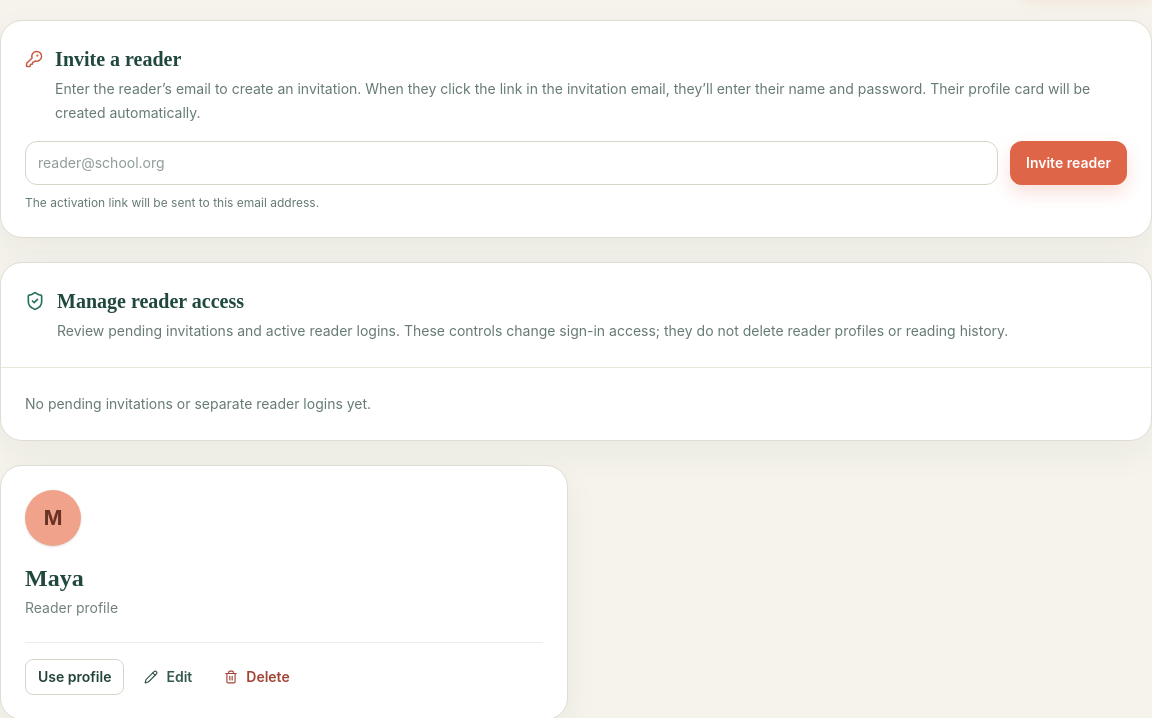
Test case: ReadersPage › requires a second explicit confirmation when the reader has history
(page scrolled)
Expected: the heading "Maya" is shown, [25,565,84,591]
Step 1. Click the button "Delete" → (257,677), box [212,659,302,695]
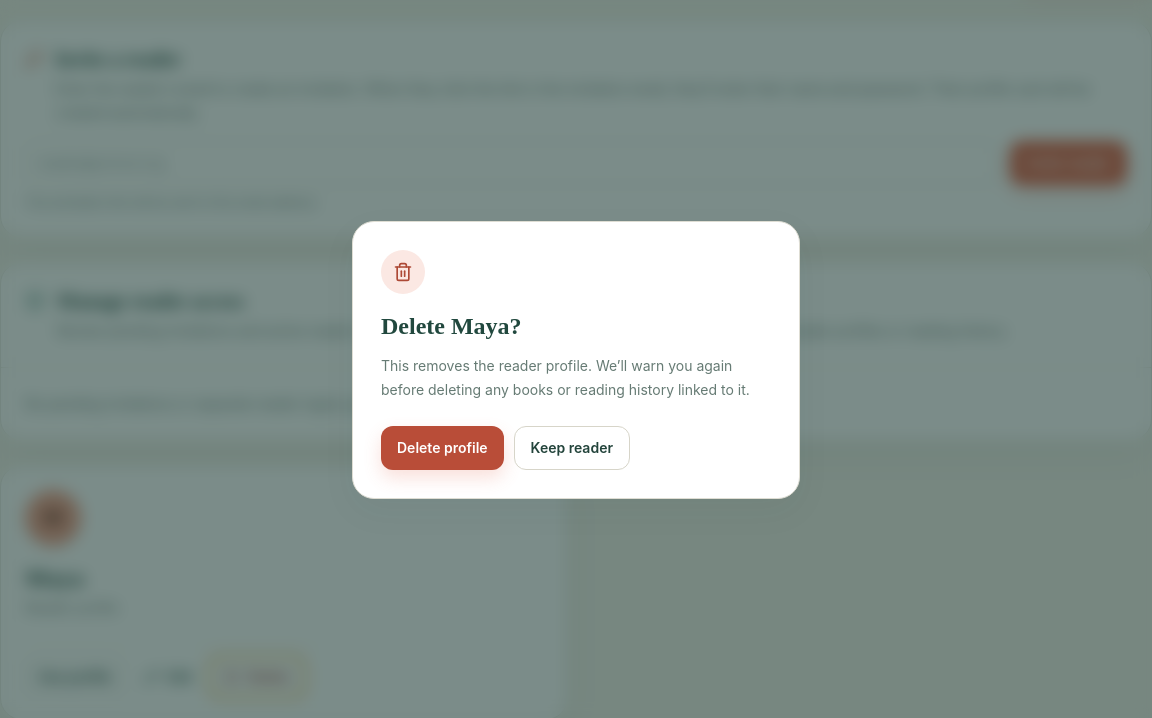
Step 2. Click the button "Delete profile" → (442,448), box [381,426,504,470]
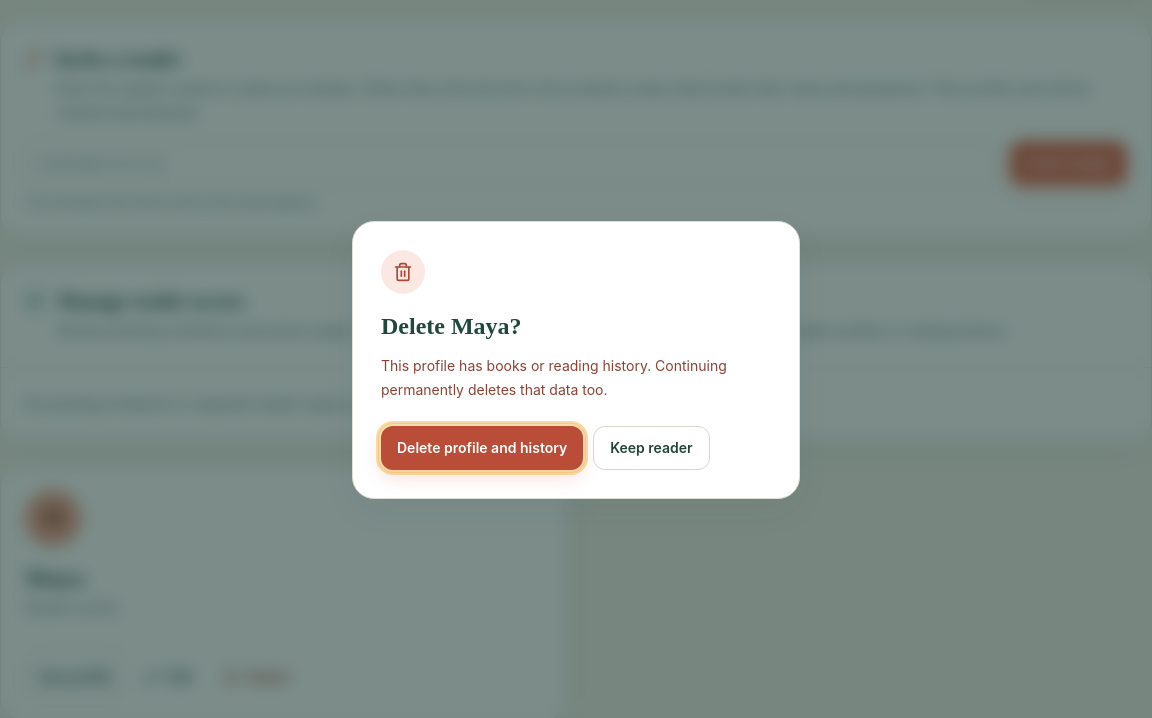
Expected: the text "has books or reading history" is shown, [381,357,727,398]
Step 3. Click the button "Delete profile and history" → (482,448), box [381,426,583,470]
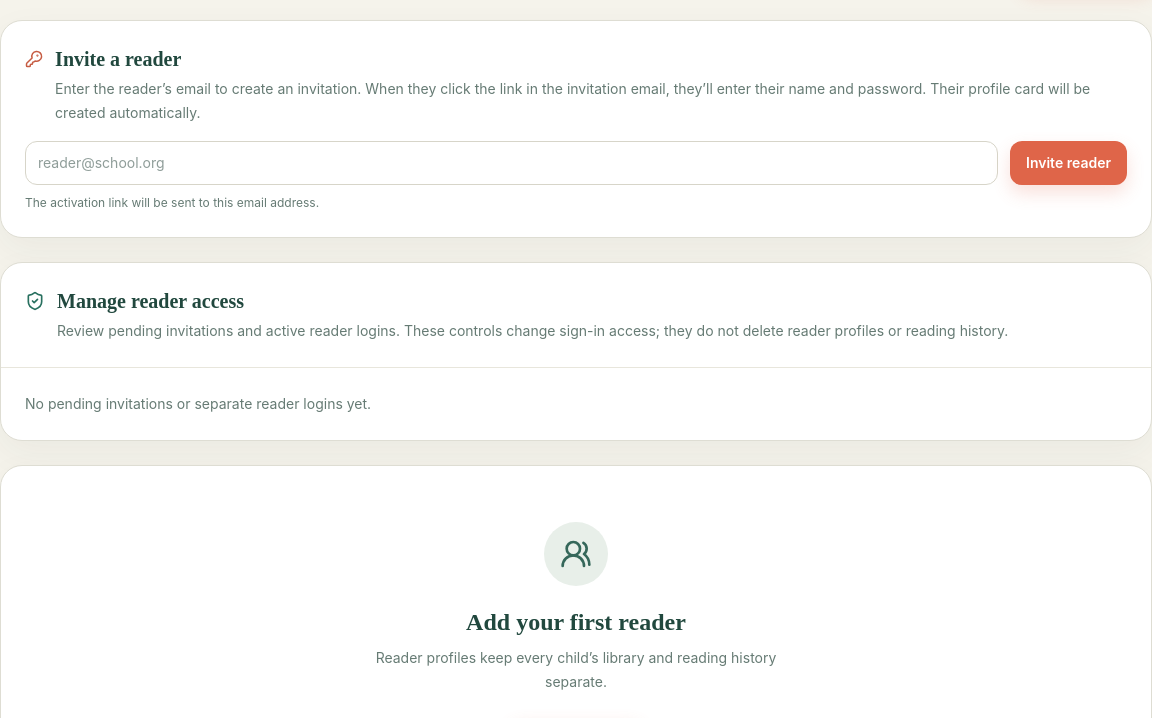
Expected: the heading "Add your first reader" is shown, [466,606,686,638]
